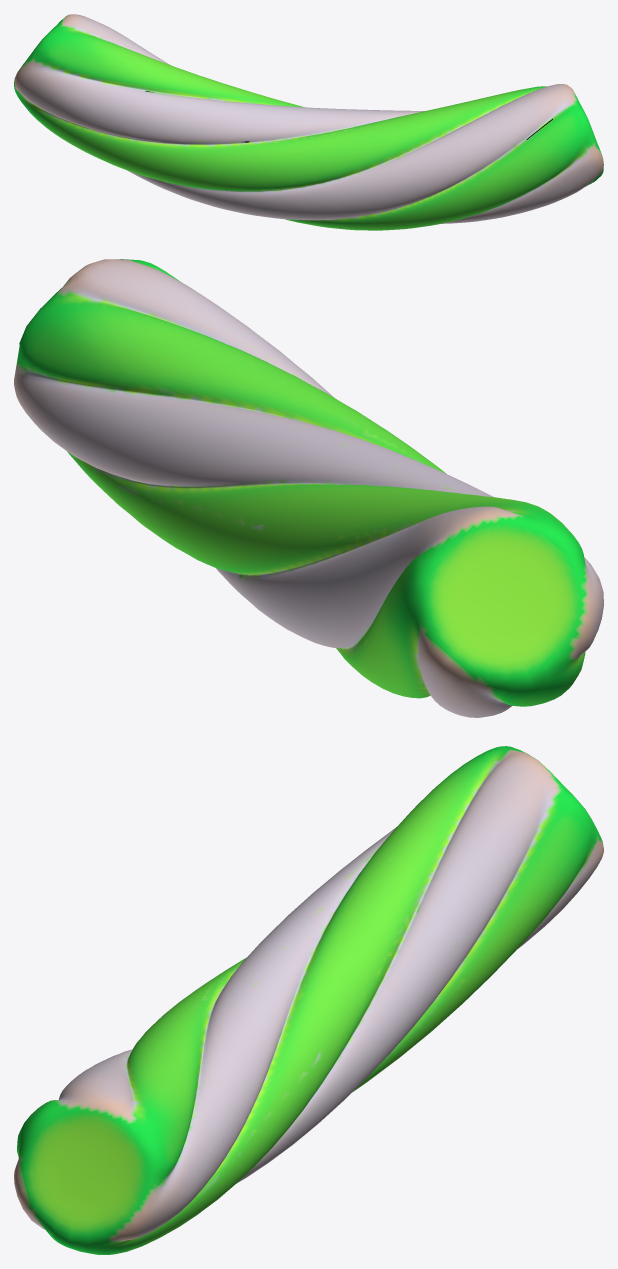
Rendered from twister_008.obj.
The picture shows the model from 3 angles, top to bottom: view 1: azimuth 30°, elevation 25°; view 2: azimuth 150°, elevation 25°; view 3: azimuth 270°, elevation 25°; orthographic projection. The views are drawn at different scales.
Parts seen in each view (by area): view 1: twister.008; view 2: twister.008; view 3: twister.008.
Boxes of the visible parts, bbox=[...] form: twister.008: bbox=[14, 14, 603, 230]; twister.008: bbox=[14, 259, 603, 717]; twister.008: bbox=[14, 746, 603, 1254].
Bounding box in the file's own units: 2.05 × 0.7958 × 1.57.
Materials: 1 (1 with a texture image).
